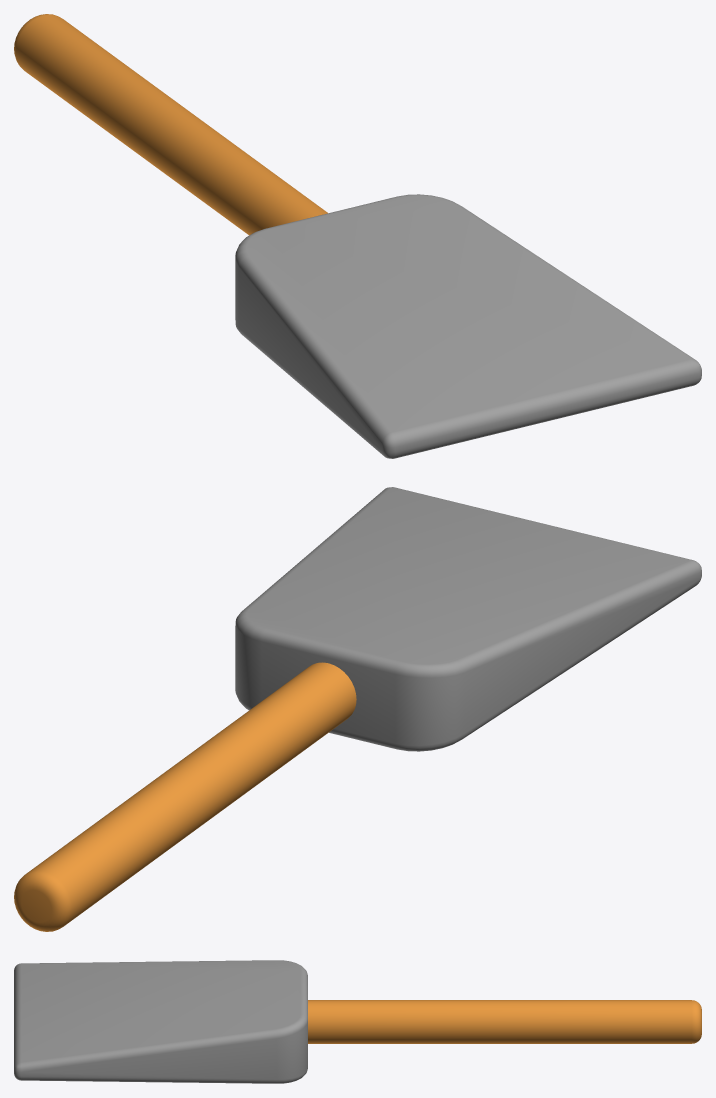
Rendered from sipatula.fbx.
3 renders of one model, top to bottom at view 1: azimuth 30°, elevation 25°; view 2: azimuth 150°, elevation 25°; view 3: azimuth 270°, elevation 25°, orthographic. The views are drawn at different scales.
Parts seen in each view (by area): view 1: sipatula; view 2: sipatula; view 3: sipatula.
Part boxes in pixels (x1,y1,x2,y2): sipatula: [14, 14, 701, 458]; sipatula: [14, 487, 701, 931]; sipatula: [14, 960, 701, 1083].
Size of the model in its own units: 36.61 by 9.62 by 102.
